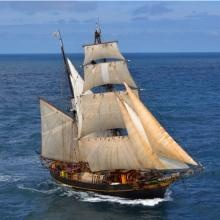fanchuan: (29, 17, 204, 196)
